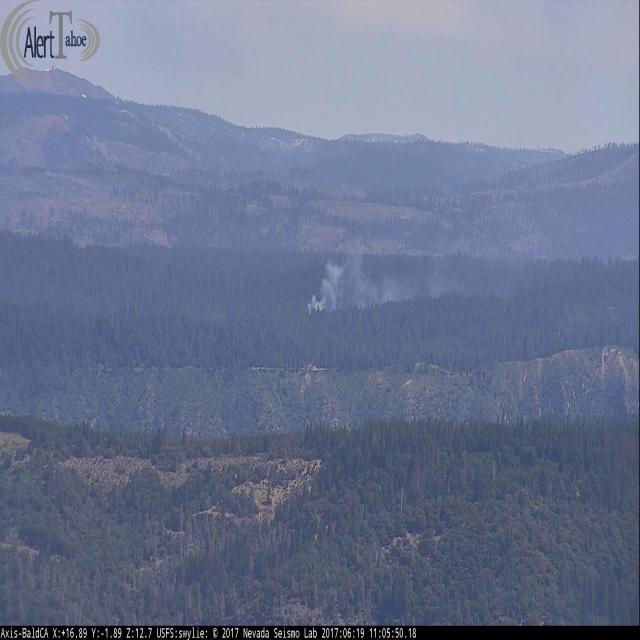smoke: (307, 229, 510, 324)
